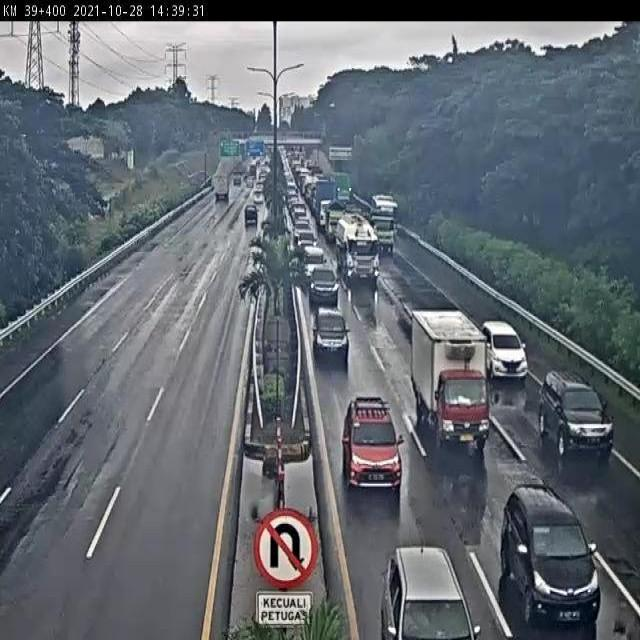big truck: (332, 210, 380, 286)
car: (505, 492, 615, 640), (372, 520, 475, 640), (532, 367, 614, 468), (336, 389, 402, 492), (478, 318, 531, 391), (312, 300, 349, 365), (304, 260, 340, 305), (238, 203, 262, 228), (249, 188, 268, 208), (251, 180, 268, 197), (242, 173, 257, 191)
small truck: (406, 300, 494, 453), (369, 207, 394, 253), (204, 168, 234, 203)
